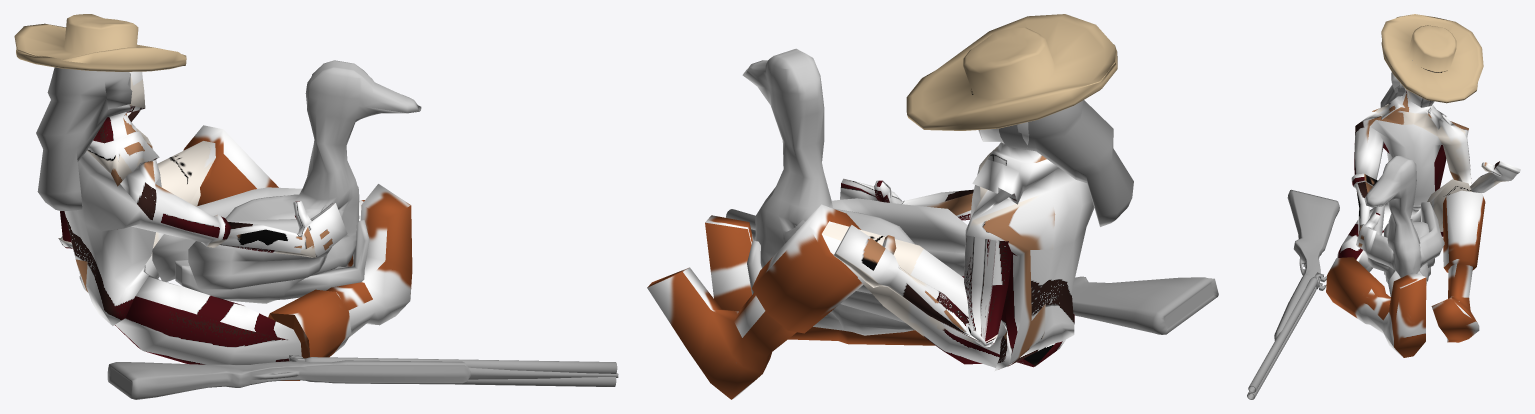
Rendered from Mariana_the_brigandBowing_9.obj.
3 renders of one model, left to right at view 1: azimuth 30°, elevation 25°; view 2: azimuth 150°, elevation 25°; view 3: azimuth 270°, elevation 25°, orthographic. The views are drawn at different scales.
Visible parts, largest first — view 1: Default_Body_Cube, Cube.005, SHOTGUN_Cube.007, Hair_Cube.004, Hat_Cylinder; view 2: Default_Body_Cube, Cube.005, Hat_Cylinder, Hair_Cube.004, SHOTGUN_Cube.007; view 3: Default_Body_Cube, Hat_Cylinder, Cube.005, SHOTGUN_Cube.007, Hair_Cube.004.
Part boxes in pixels (x1=…): Default_Body_Cube: x1=58, y1=71, x2=412, y2=380; Cube.005: x1=152, y1=60, x2=421, y2=303; SHOTGUN_Cube.007: x1=107, y1=355, x2=618, y2=399; Hair_Cube.004: x1=36, y1=67, x2=132, y2=210; Hat_Cylinder: x1=14, y1=14, x2=186, y2=71; Default_Body_Cube: x1=647, y1=122, x2=1094, y2=399; Cube.005: x1=742, y1=48, x2=967, y2=335; Hat_Cylinder: x1=906, y1=14, x2=1117, y2=130; Hair_Cube.004: x1=999, y1=100, x2=1133, y2=226; SHOTGUN_Cube.007: x1=726, y1=209, x2=1218, y2=334; Default_Body_Cube: x1=1326, y1=71, x2=1520, y2=357; Hat_Cylinder: x1=1381, y1=14, x2=1483, y2=103; Cube.005: x1=1364, y1=155, x2=1444, y2=296; SHOTGUN_Cube.007: x1=1247, y1=189, x2=1339, y2=399; Hair_Cube.004: x1=1380, y1=60, x2=1412, y2=107.
Bounding box in the file's own units: 6.86 × 5.15 × 5.24.
